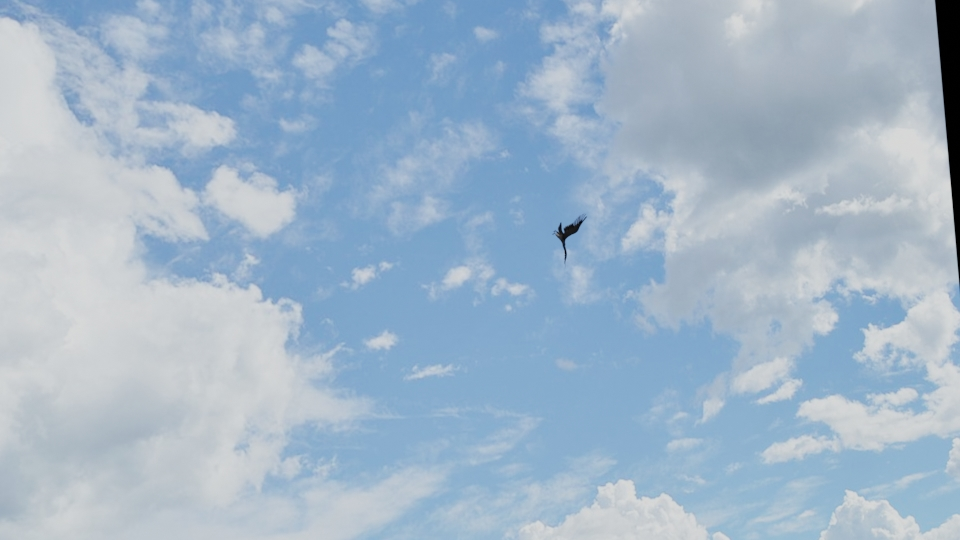bird: (555, 209, 587, 255)
